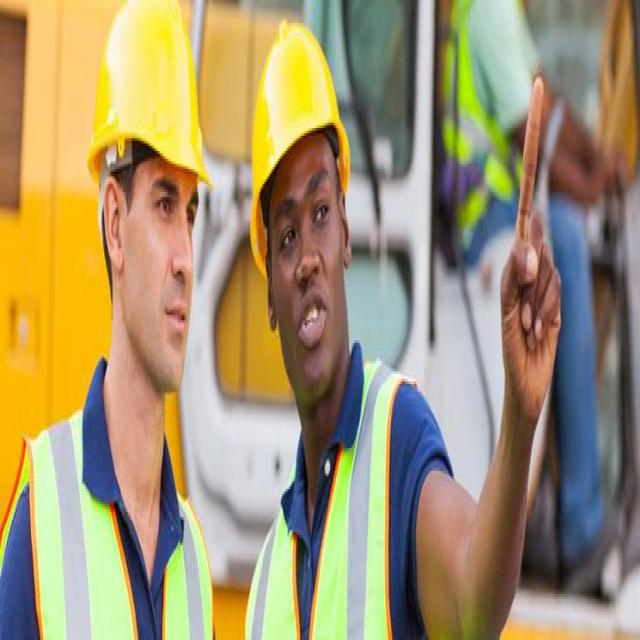Reflective-Jacket: (244, 353, 417, 640), (19, 407, 214, 640)
Safety-Helmet: (82, 2, 214, 208), (246, 13, 353, 251)
